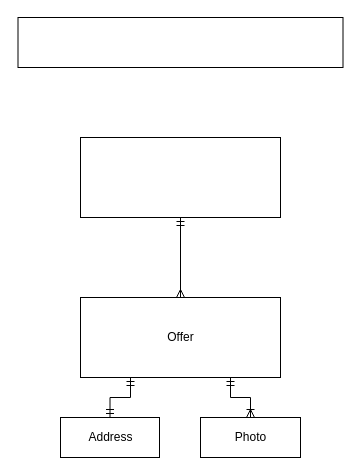
The diagram is 360 pixels wide and 475 high, and some of its shapes have lost their labels. Here are the shapes that lost their labels. From the top down, the centre of each, then its label:
point (180, 42): P9_REM_PDM
point (180, 177): Agent
